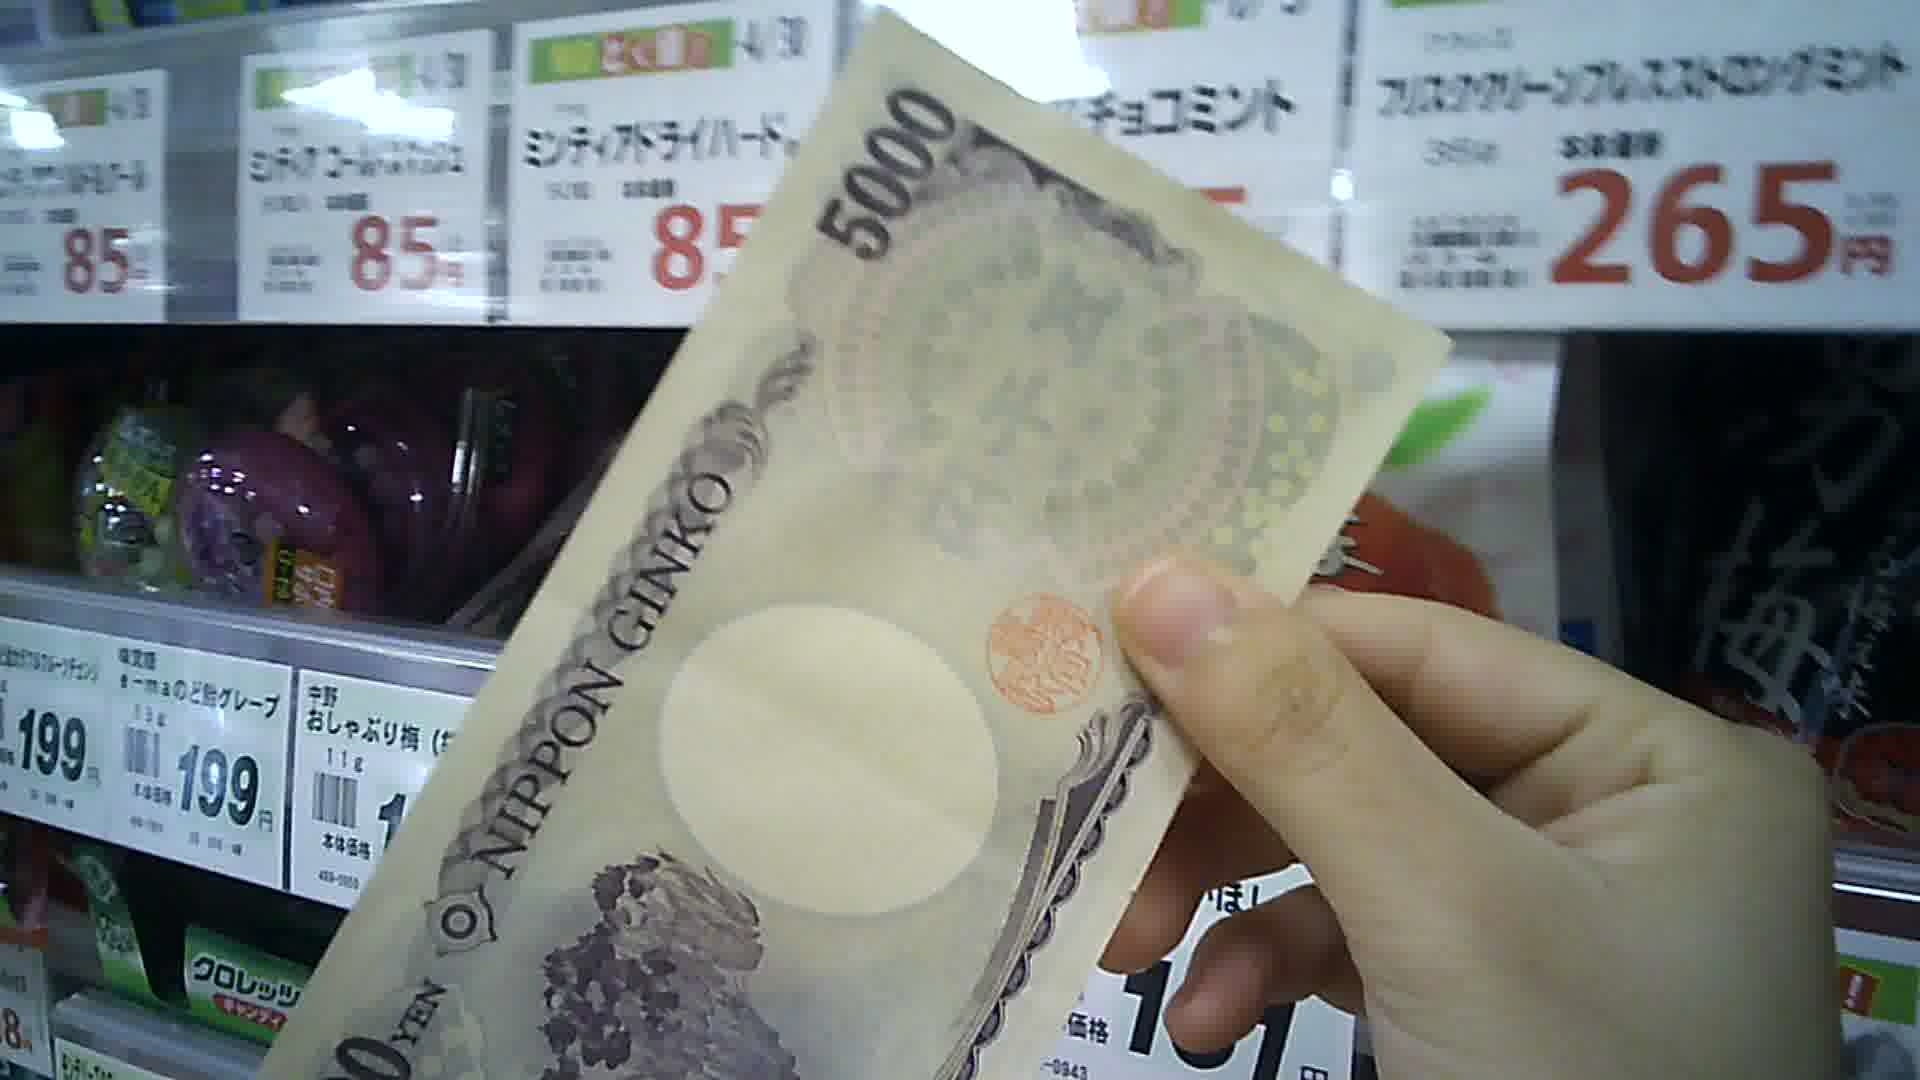5,000 Yen: (245, 18, 1377, 1079)
